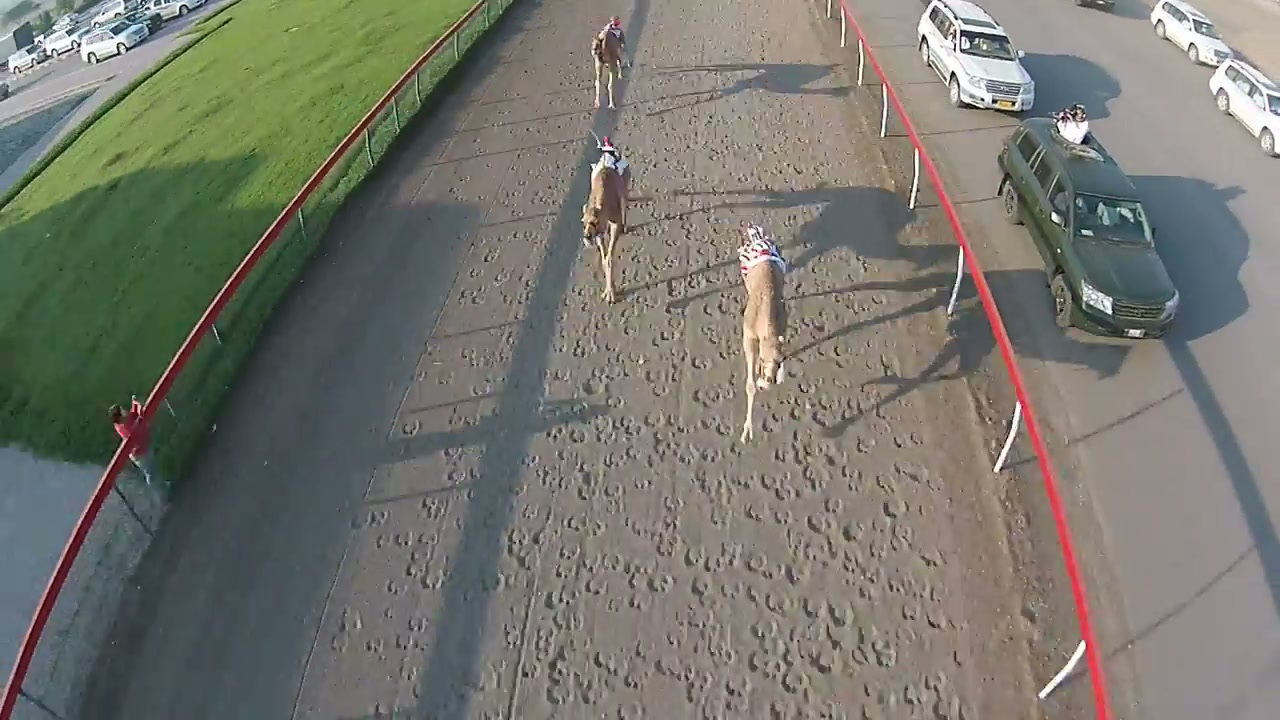animal_footprint: (649, 29, 928, 719), (493, 66, 695, 709)
